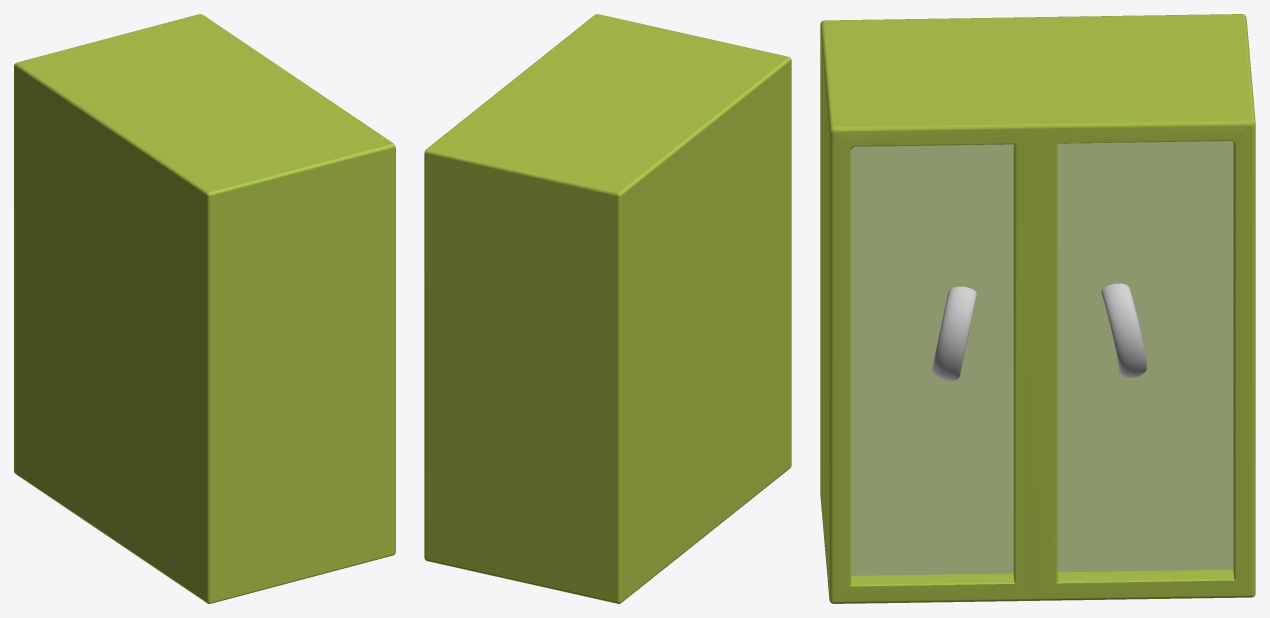
File: BigCabinet.fbx
The picture shows the model from 3 angles, left to right: view 1: azimuth 30°, elevation 25°; view 2: azimuth 150°, elevation 25°; view 3: azimuth 270°, elevation 25°; orthographic projection. The views are drawn at different scales.
Parts seen in each view (by area): view 1: pCube9; view 2: pCube9; view 3: pCube9.
Boxes of the visible parts, x1,y1,x2,y2 form: pCube9: [14, 14, 395, 603]; pCube9: [424, 14, 791, 603]; pCube9: [820, 14, 1255, 603].
Bounding box in the file's own units: 0.9869 × 1.87 × 1.55.
